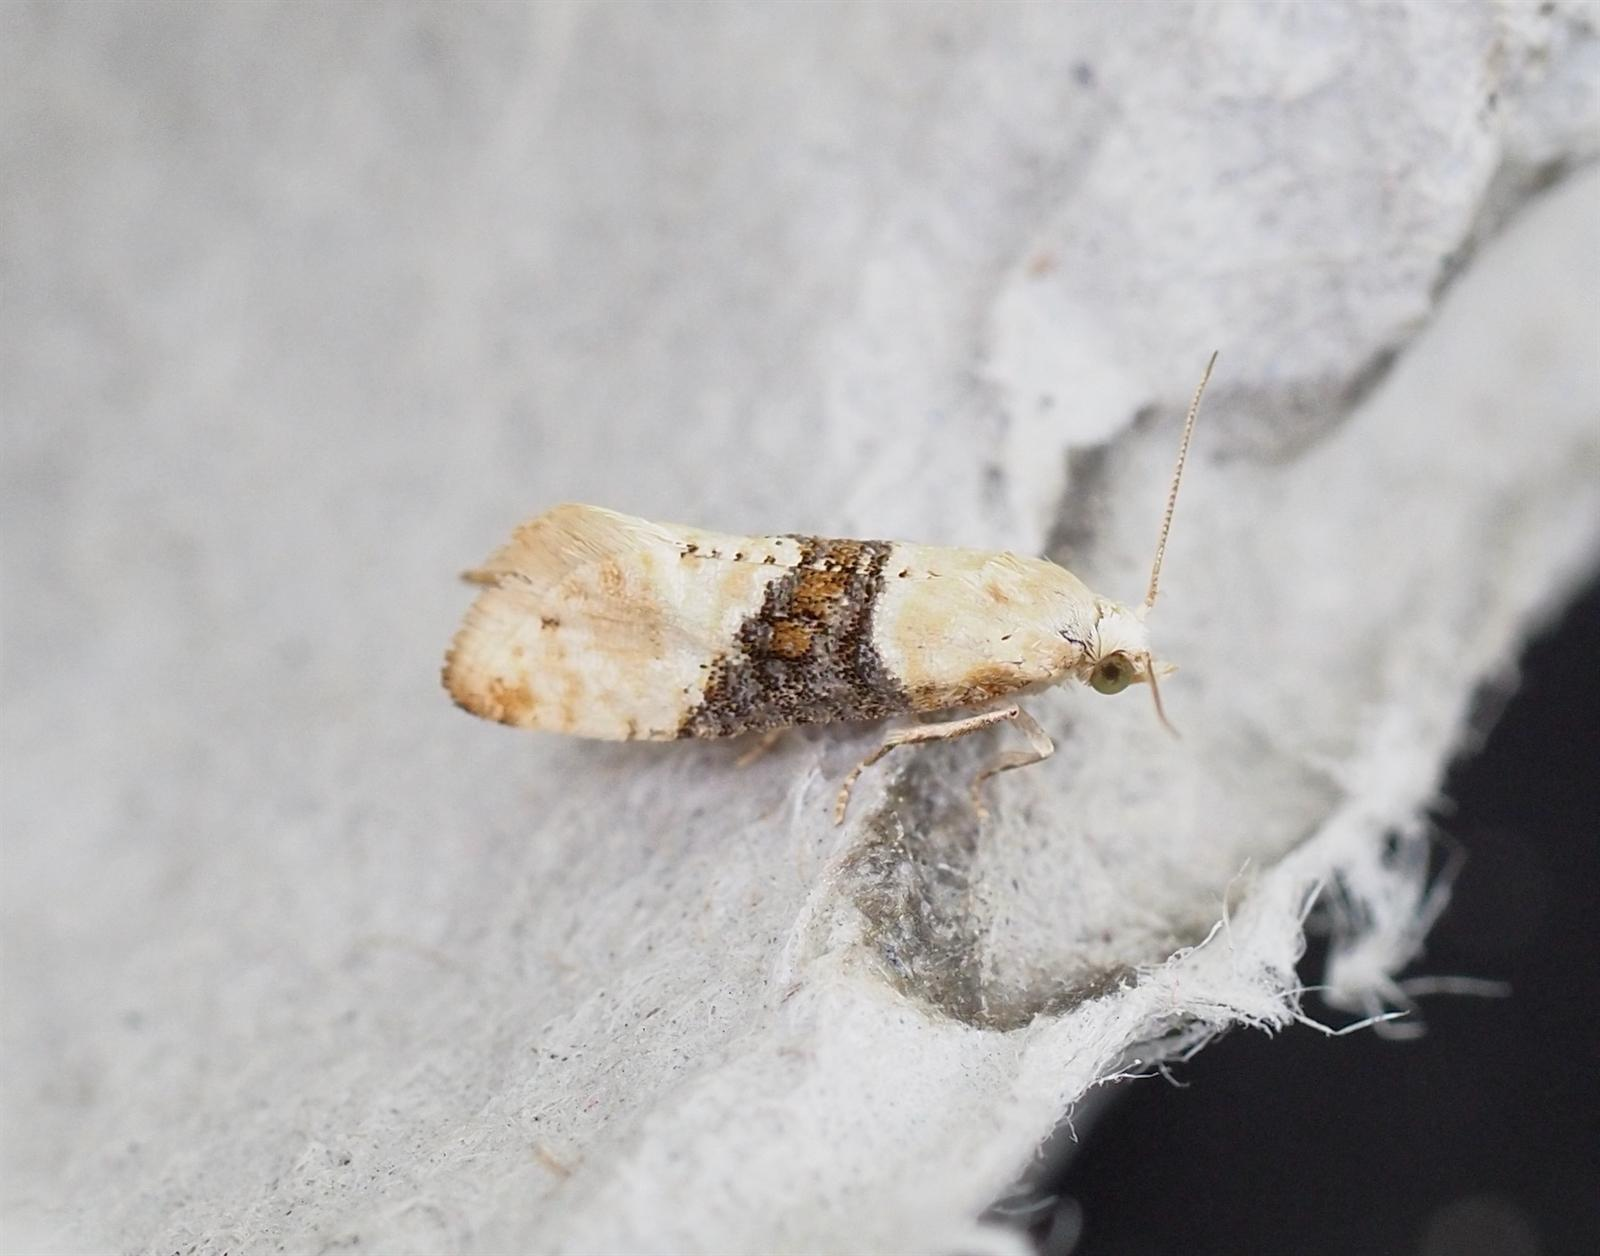Eupoecilia Ambiguella: (436, 344, 1223, 829)
